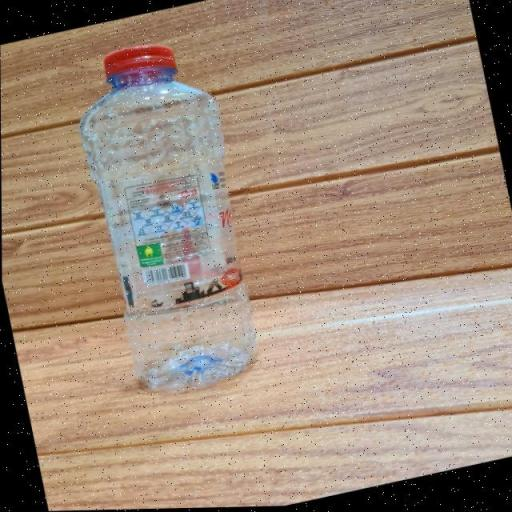plastic: (58, 30, 282, 404)
